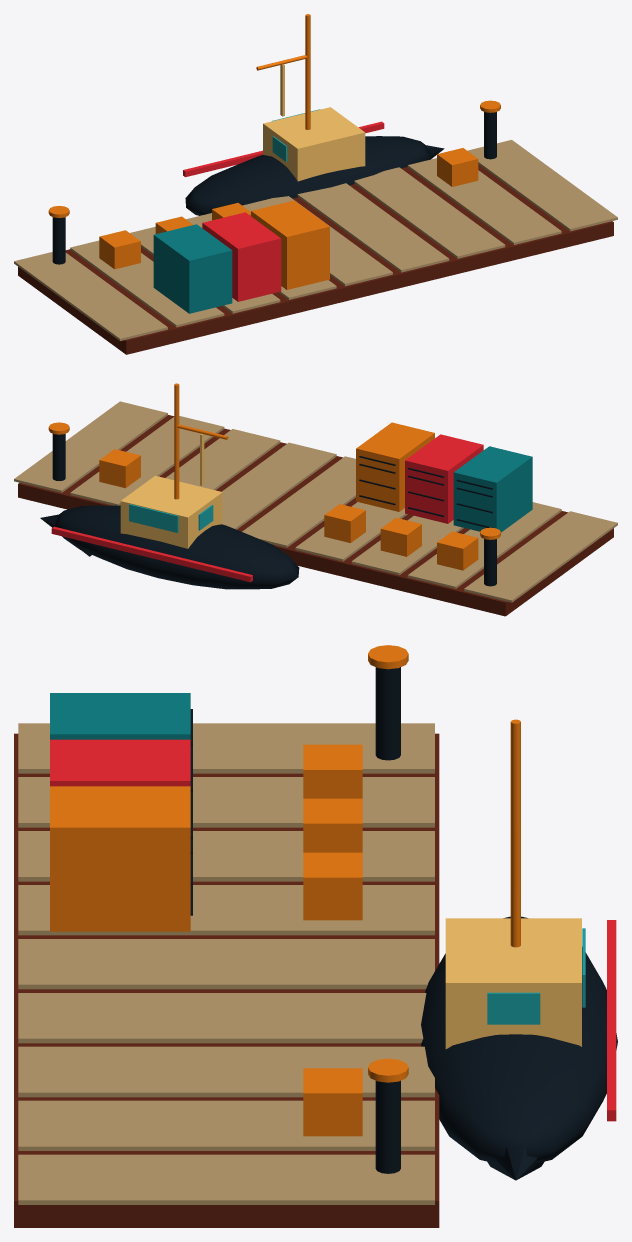
The model's file is harbor.glb.
3 renders of one model, top to bottom at view 1: azimuth 30°, elevation 25°; view 2: azimuth 150°, elevation 25°; view 3: azimuth 270°, elevation 25°, orthographic. The views are drawn at different scales.
Visible parts, largest first — view 1: pale, wood, gold, navy, teal, cream, coral; view 2: pale, navy, gold, wood, coral, teal, cream, glass; view 3: pale, gold, navy, wood, cream, coral, teal, glass.
Boxes of the visible parts, box(x1,y1,x2,y2) form: pale: box(14, 140, 617, 340); wood: box(18, 164, 613, 354); gold: box(48, 14, 500, 289); navy: box(52, 112, 496, 264); teal: box(153, 224, 232, 313); cream: box(263, 64, 365, 181); coral: box(183, 121, 384, 301); pale: box(14, 401, 617, 602); navy: box(40, 433, 496, 589); gold: box(48, 383, 500, 570); wood: box(18, 415, 613, 616); coral: box(51, 434, 483, 582); teal: box(453, 446, 532, 532); cream: box(120, 433, 222, 548); glass: box(129, 504, 213, 532); pale: box(18, 723, 434, 1204); gold: box(50, 645, 520, 1136); navy: box(190, 667, 617, 1180); wood: box(14, 733, 439, 1227); cream: box(445, 918, 581, 1049); coral: box(50, 739, 616, 1121); teal: box(50, 693, 190, 739); glass: box(487, 928, 585, 1024).
Size of the model in its own units: 26.55 by 9.55 by 14.2.
